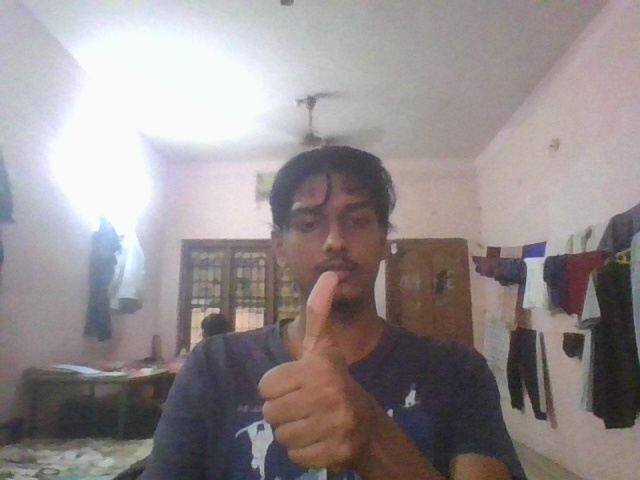thumbsup: (253, 267, 408, 479)
